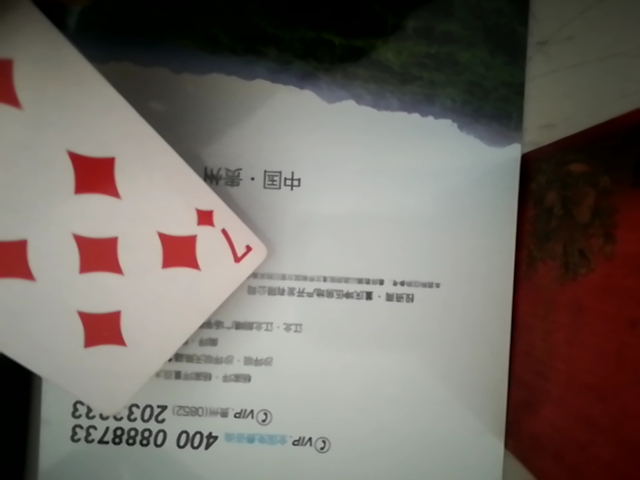fk 7: (0, 6, 269, 421)
